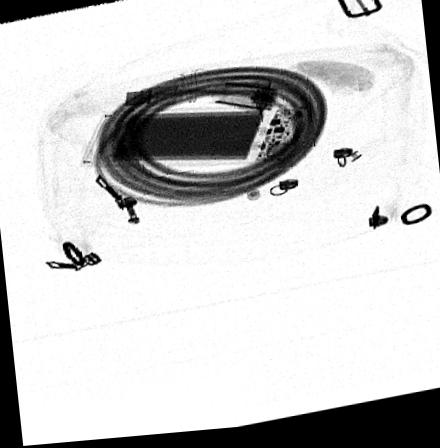Powerbank: (78, 111, 312, 172)
